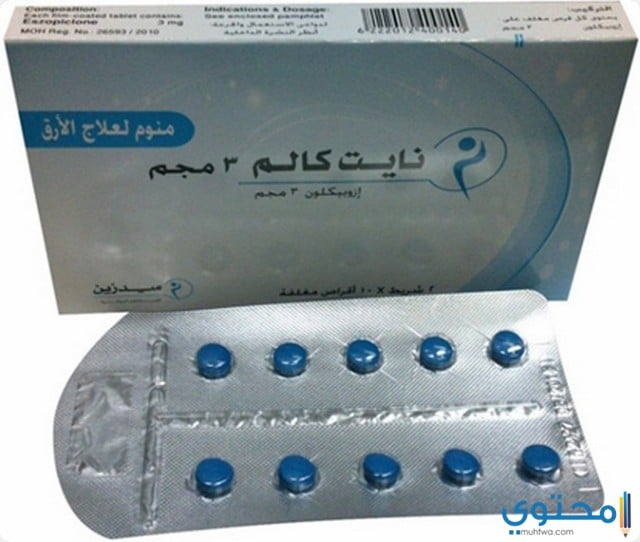Medicine: (3, 0, 640, 303)
